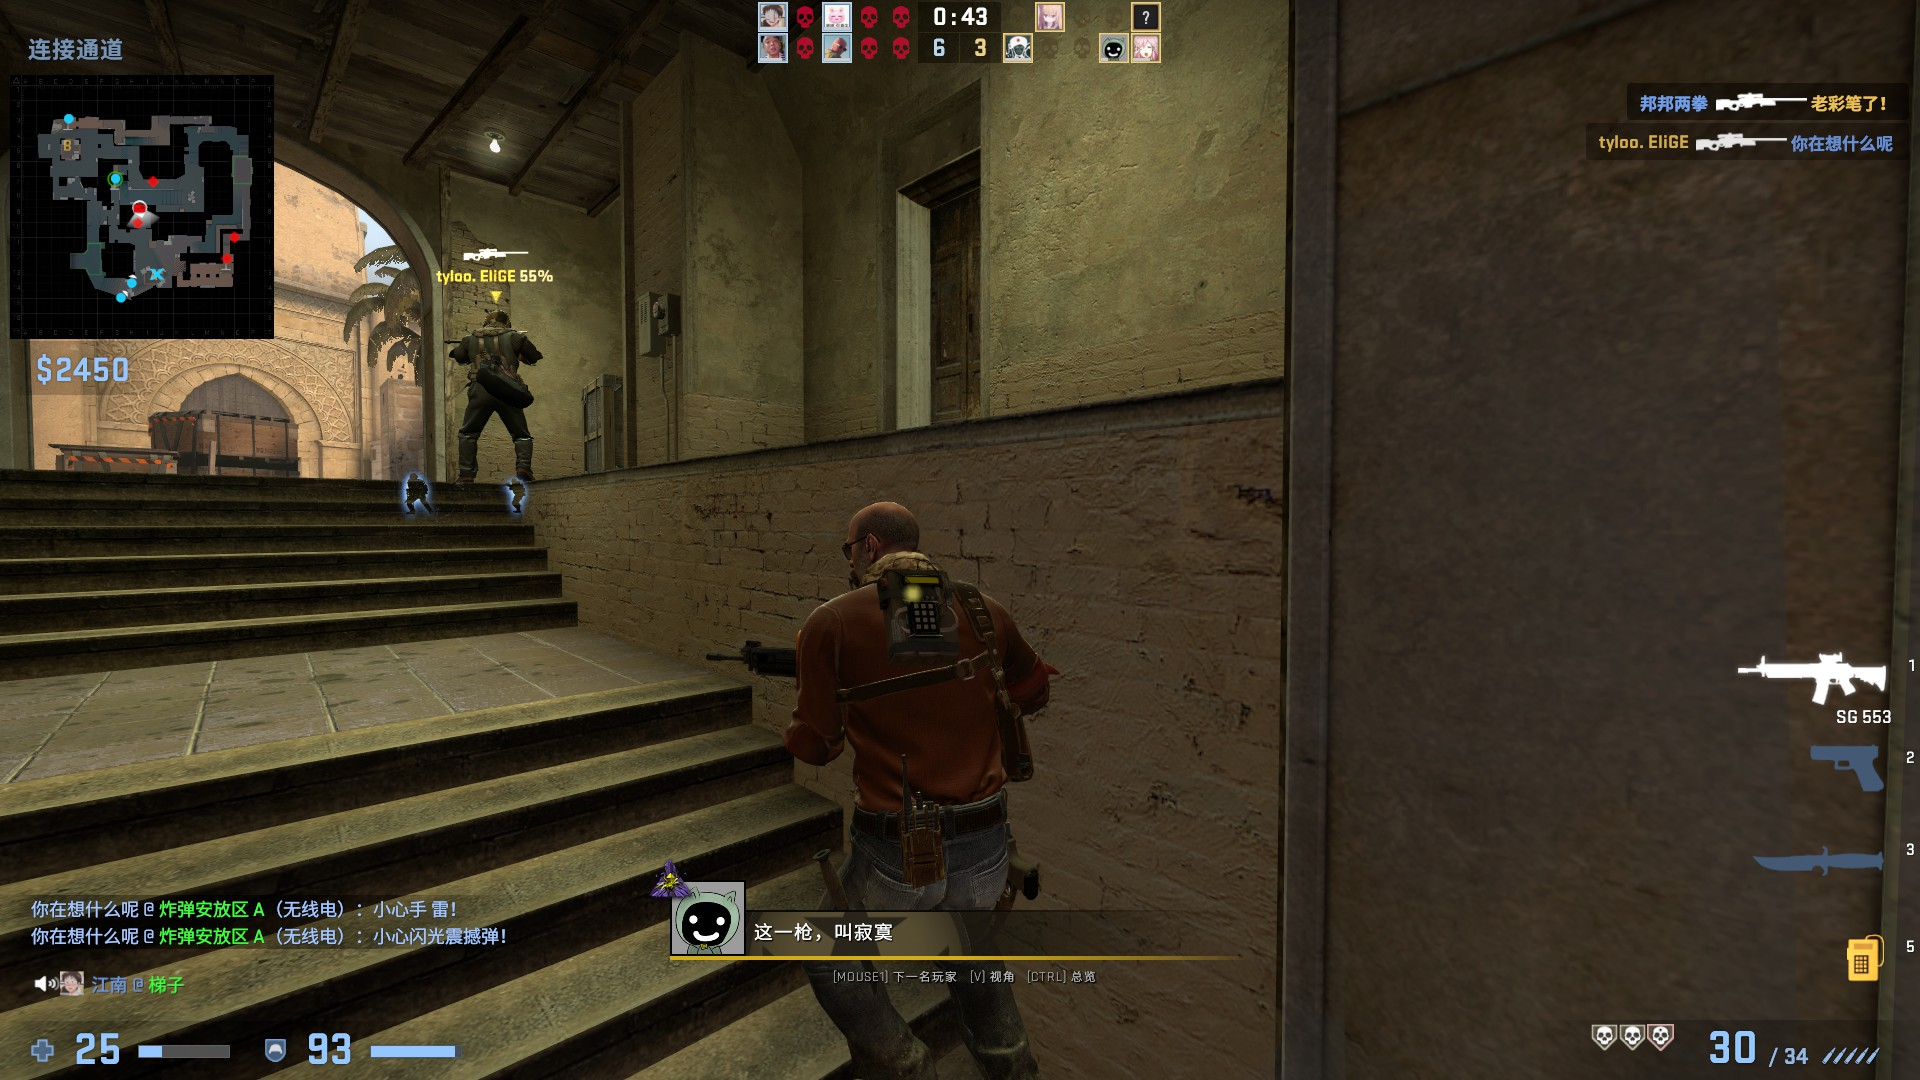head: (842, 496, 921, 565), (479, 308, 512, 329)
